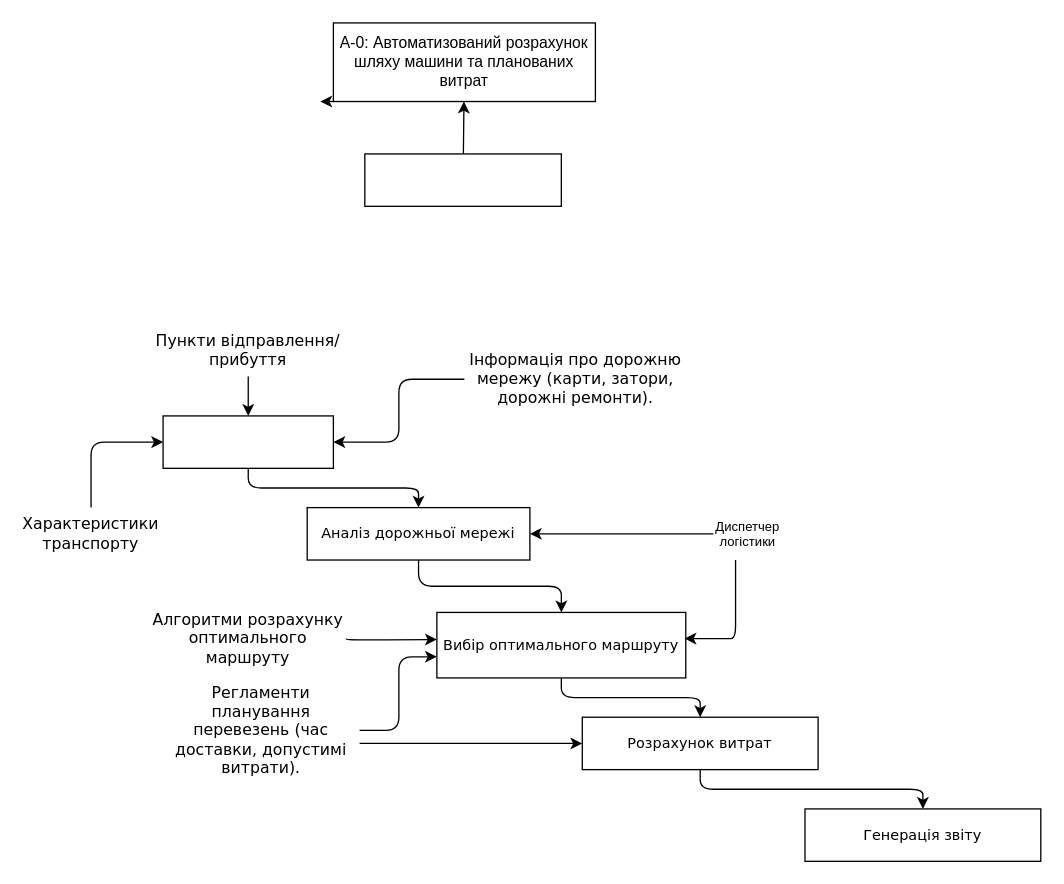
The diagram is 1064 pixels wide and 884 high, and some of its shapes have lost their labels. The centre of each missing label's shape, as x and y in pixels:
"Збір вхідних даних" goes at [247,441].
"Механізми: Система планування, алгоритми" goes at [462,179].
